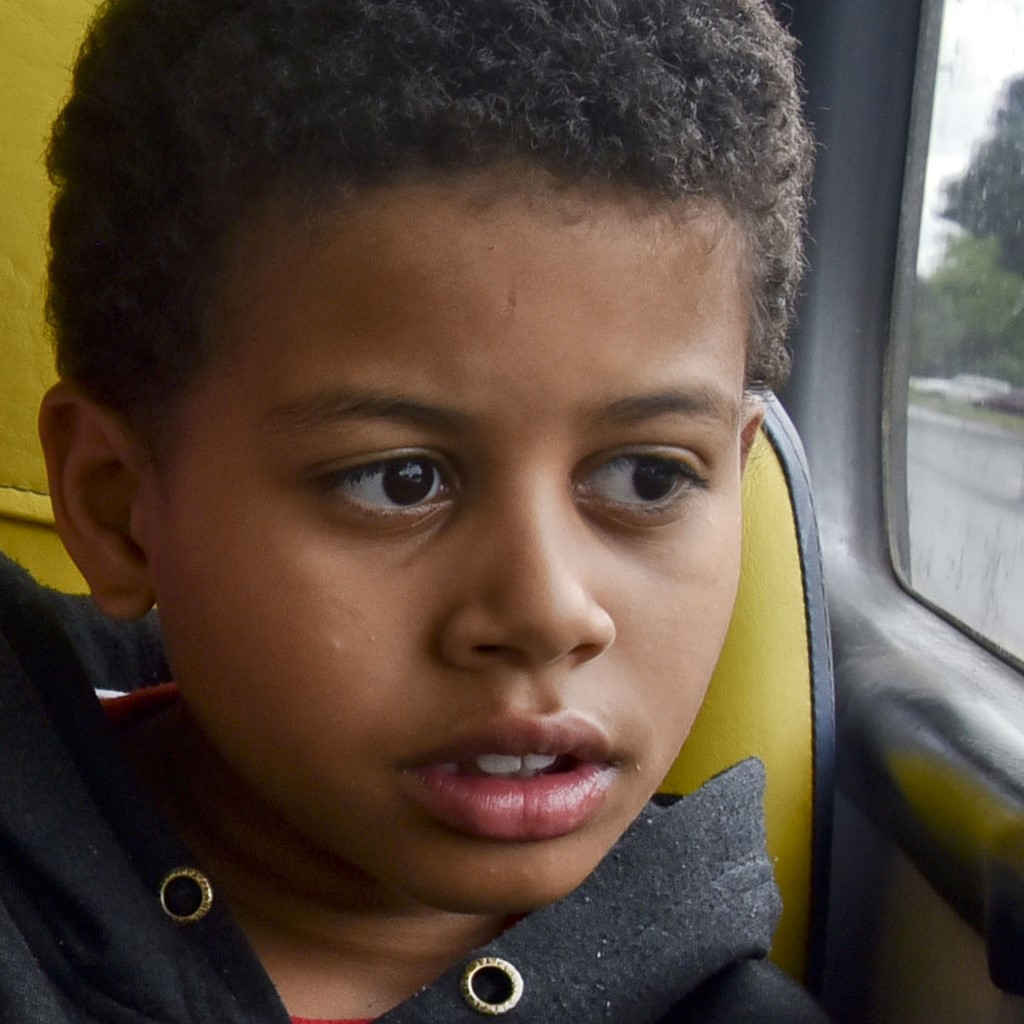sin_mascara: (43, 62, 761, 927)
